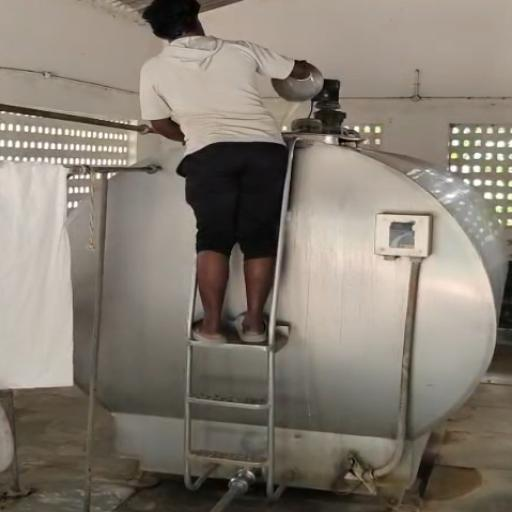silo: (69, 130, 511, 495)
vessel: (270, 65, 325, 102)
